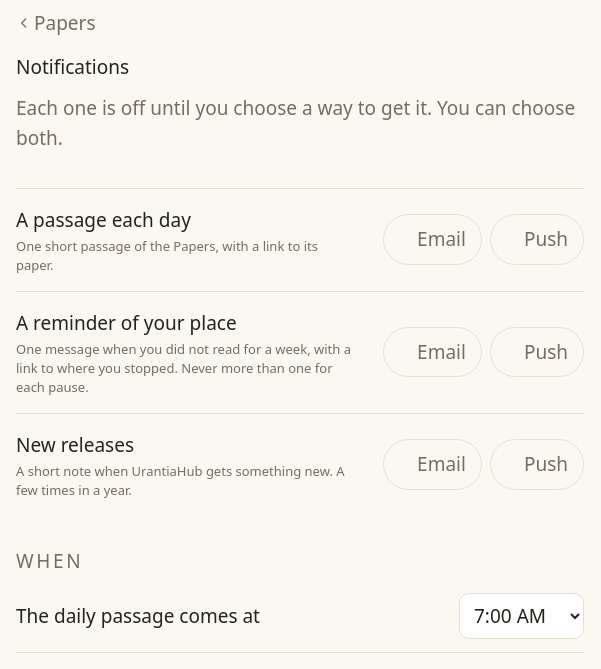
it: the Notifications page › turns an email on with one press, and keeps the time zone of the device with it
The width and height of the screenshot is (601, 669).
Click the button "Email" in the row of "A passage each day": [432, 240] box [383,214,482,265]
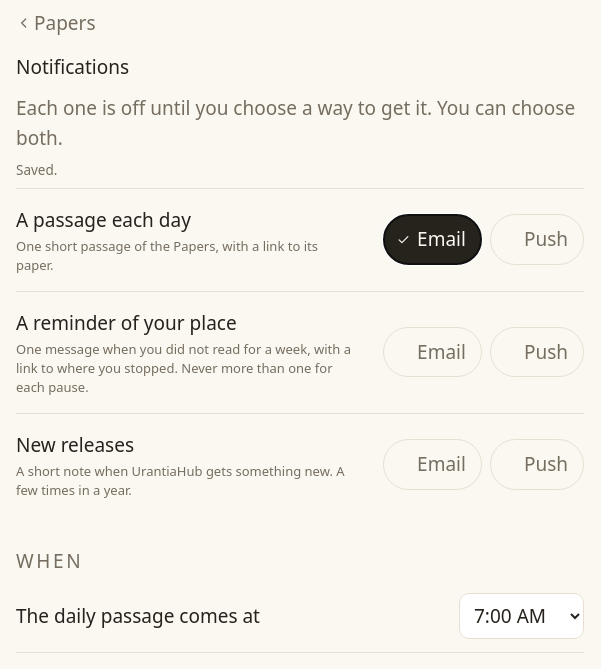
Result: the text "Saved." is shown at [16,161,57,179]
